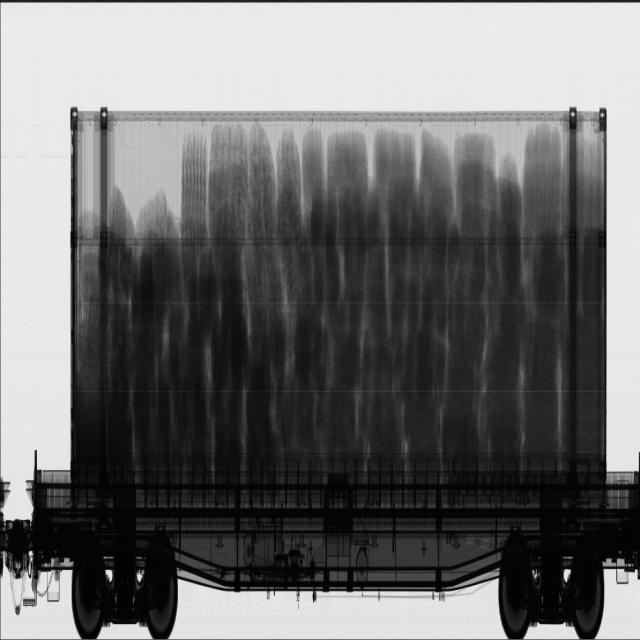textiles: (76, 123, 602, 475)
